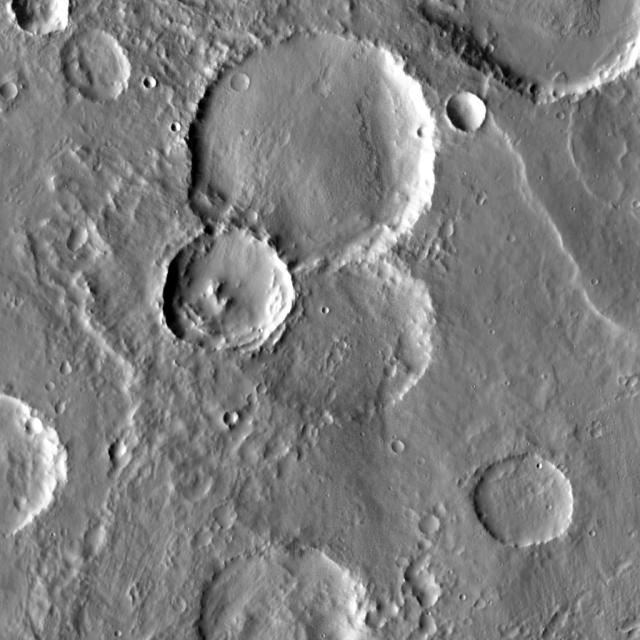crater: (188, 32, 440, 276), (251, 239, 436, 419), (198, 546, 370, 640), (164, 230, 294, 354), (477, 453, 575, 548), (61, 30, 133, 100), (14, 0, 72, 36), (449, 92, 489, 132), (418, 583, 442, 608), (214, 504, 238, 528), (408, 563, 432, 586), (87, 524, 109, 546), (379, 600, 400, 620), (421, 513, 441, 533), (232, 71, 252, 91), (421, 613, 441, 632), (195, 527, 214, 546), (552, 609, 571, 627), (110, 439, 128, 457), (2, 82, 20, 100), (368, 612, 386, 630), (73, 226, 91, 243), (28, 418, 44, 435), (439, 222, 456, 238), (226, 410, 240, 425), (68, 237, 83, 251), (419, 124, 434, 138), (435, 503, 449, 518), (505, 623, 519, 638), (174, 597, 188, 611), (392, 440, 406, 452), (544, 628, 558, 640), (628, 375, 640, 388), (555, 86, 568, 98), (145, 76, 157, 88), (420, 538, 432, 550), (386, 364, 398, 376), (534, 482, 546, 494), (16, 498, 28, 509), (398, 557, 409, 568), (62, 365, 74, 375), (249, 393, 260, 403), (56, 403, 67, 413), (174, 120, 184, 130), (594, 427, 604, 437), (258, 383, 268, 393), (477, 599, 487, 609), (601, 69, 611, 78), (408, 508, 417, 518), (47, 382, 57, 391), (521, 626, 530, 635), (509, 234, 518, 242), (620, 376, 629, 384), (488, 44, 497, 52), (134, 36, 142, 44), (17, 298, 25, 306), (500, 624, 508, 632), (353, 519, 361, 527), (353, 496, 361, 504), (593, 277, 601, 284), (559, 112, 567, 119), (466, 617, 474, 624), (566, 302, 573, 309), (414, 451, 421, 458), (318, 300, 324, 308), (526, 545, 534, 551), (110, 622, 116, 630), (629, 195, 635, 202), (588, 414, 594, 421), (57, 353, 64, 359)
